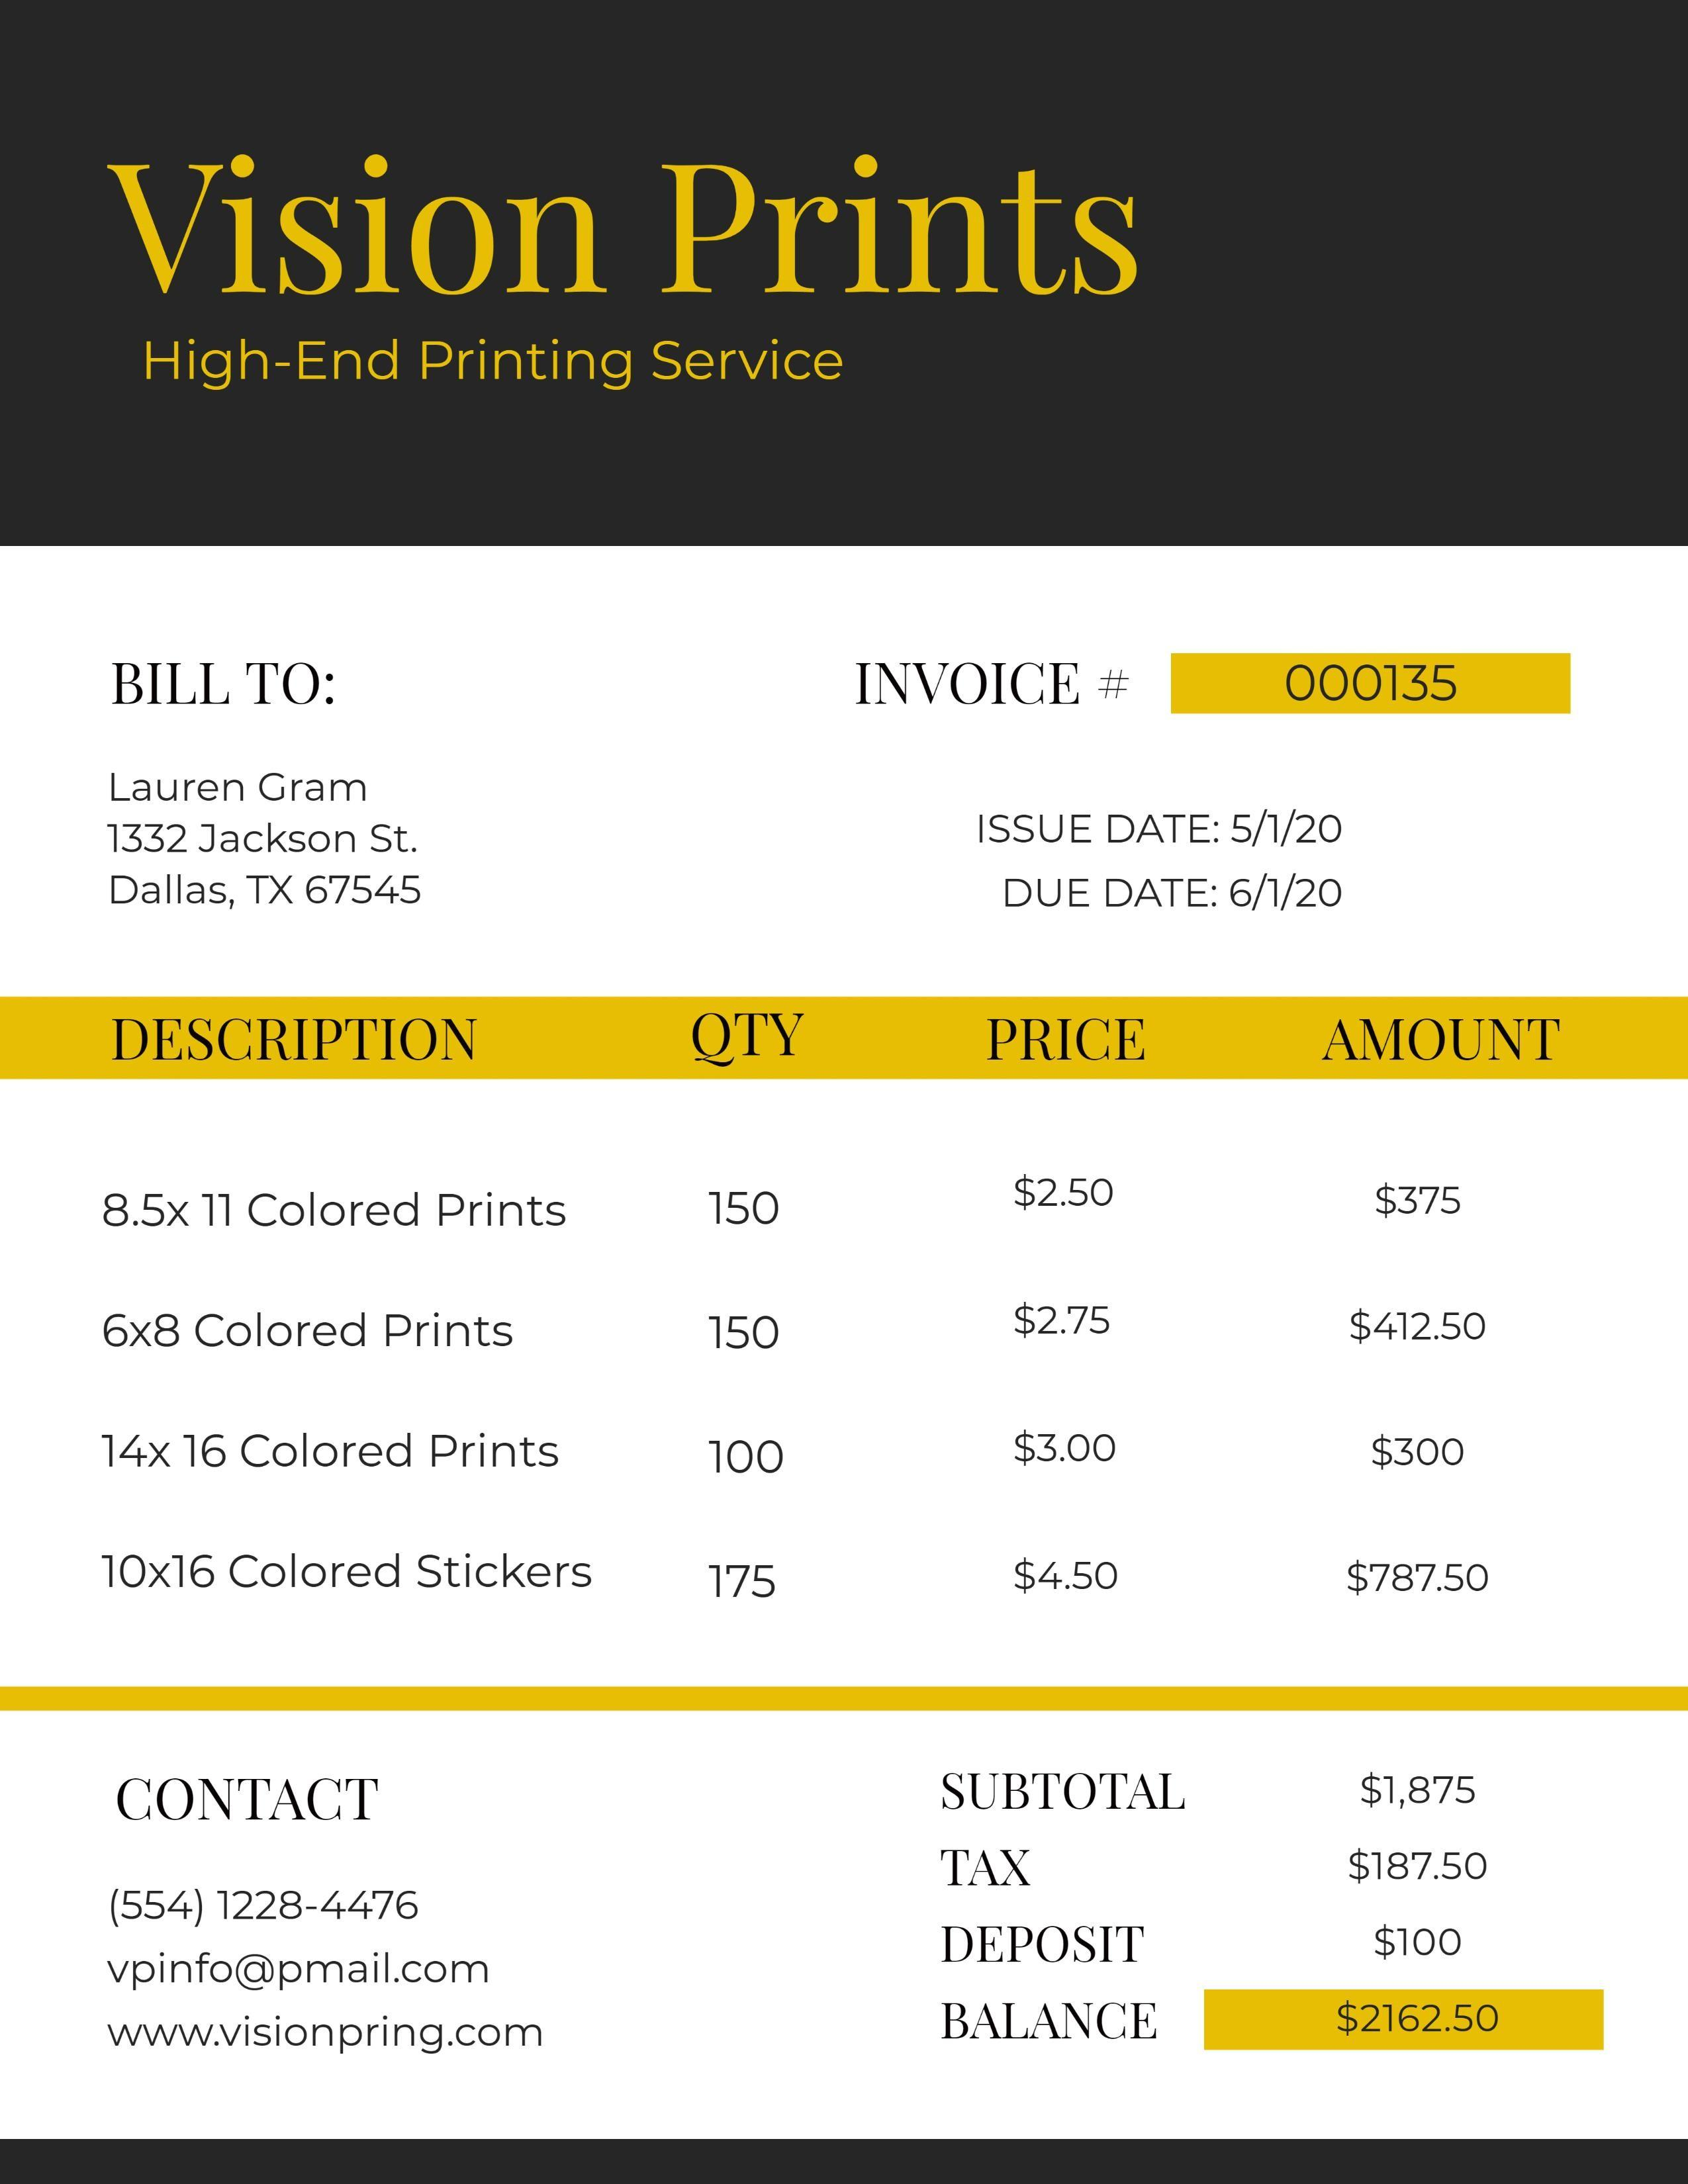ROI: (64, 1000, 1615, 1627), (112, 136, 1200, 413), (931, 1762, 1629, 2074), (846, 652, 1585, 932), (106, 760, 449, 913)
